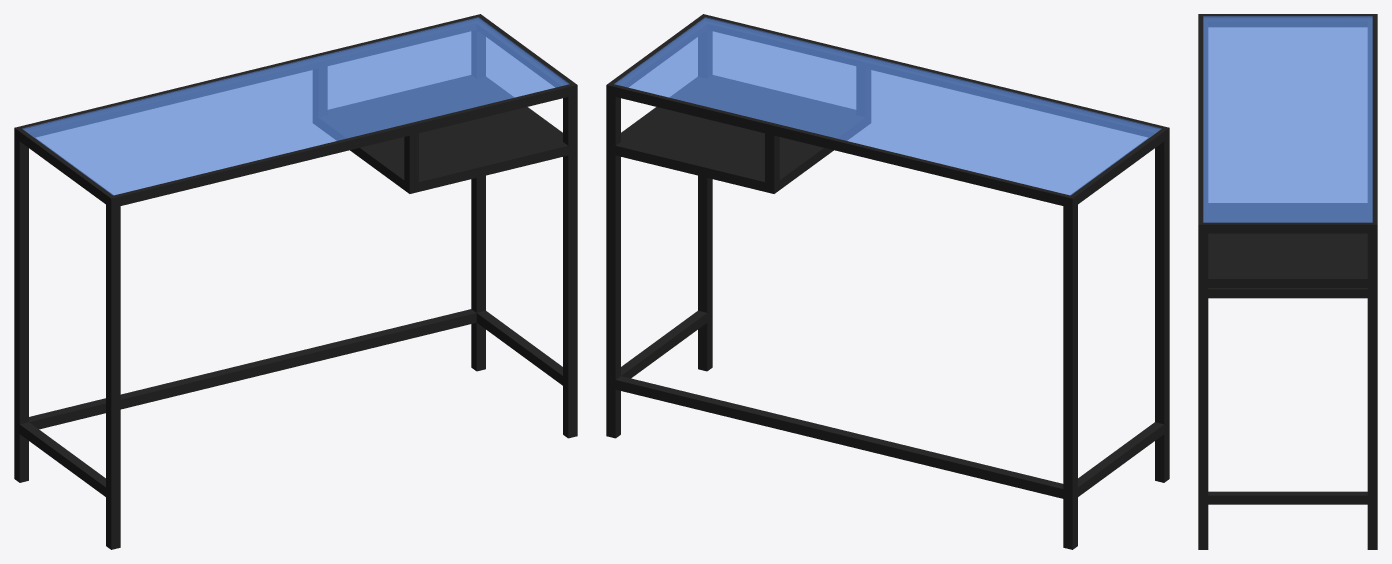
3 renders of one model, left to right at view 1: azimuth 30°, elevation 25°; view 2: azimuth 150°, elevation 25°; view 3: azimuth 270°, elevation 25°, orthographic. The views are drawn at different scales.
Parts seen in each view (by area): view 1: Mesh1 Group1 IKEA_Vittsj__Laptop_Table1 Model, Mesh2 Group2 IKEA_Vittsj__Laptop_Table1 Model; view 2: Mesh1 Group1 IKEA_Vittsj__Laptop_Table1 Model, Mesh2 Group2 IKEA_Vittsj__Laptop_Table1 Model; view 3: Mesh2 Group2 IKEA_Vittsj__Laptop_Table1 Model, Mesh1 Group1 IKEA_Vittsj__Laptop_Table1 Model.
Part boxes in pixels (box(x1,y1,x2,y2)): Mesh1 Group1 IKEA_Vittsj__Laptop_Table1 Model: box(14, 14, 577, 549); Mesh2 Group2 IKEA_Vittsj__Laptop_Table1 Model: box(22, 17, 569, 195); Mesh1 Group1 IKEA_Vittsj__Laptop_Table1 Model: box(606, 14, 1169, 549); Mesh2 Group2 IKEA_Vittsj__Laptop_Table1 Model: box(614, 17, 1161, 195); Mesh2 Group2 IKEA_Vittsj__Laptop_Table1 Model: box(1203, 16, 1372, 222); Mesh1 Group1 IKEA_Vittsj__Laptop_Table1 Model: box(1198, 14, 1377, 549).
Bounding box in the file's own units: 39.37 × 28.35 × 14.17.
